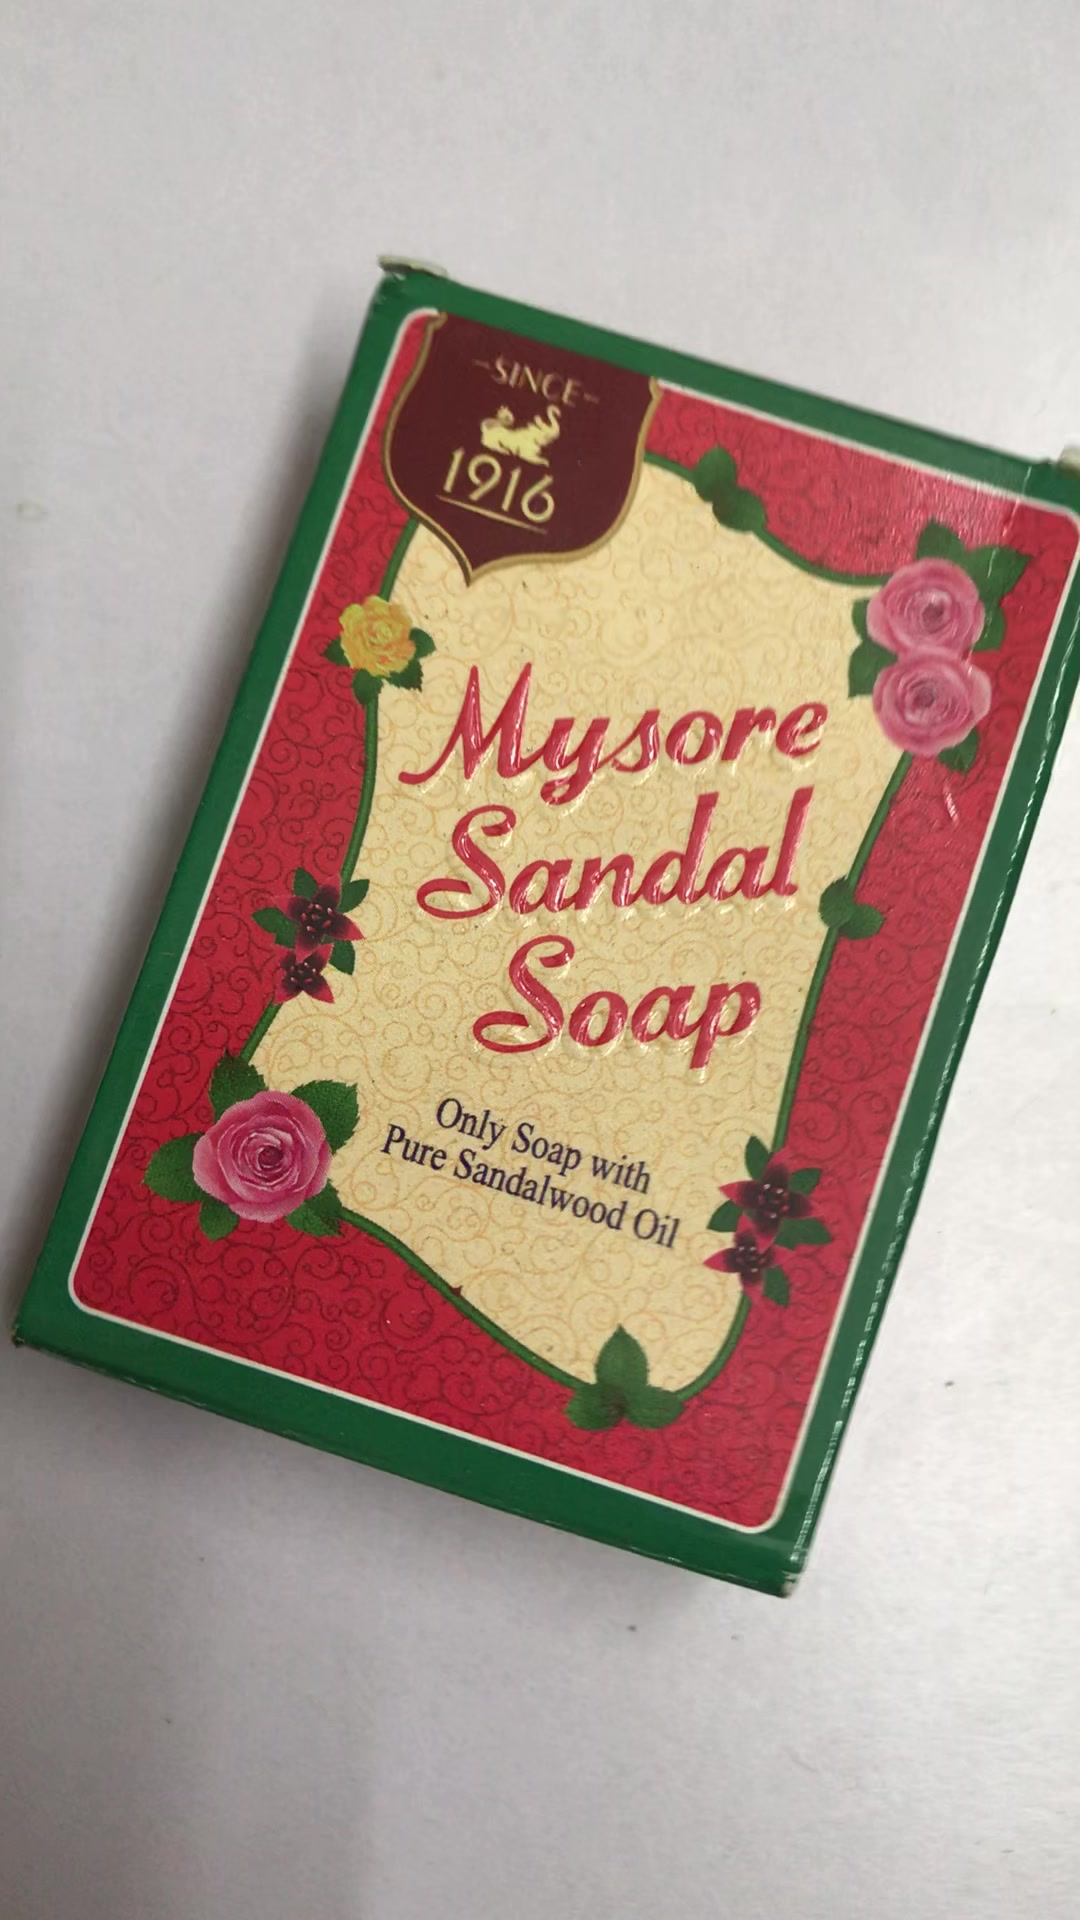mysore sandal soap: (9, 272, 1080, 1593)
